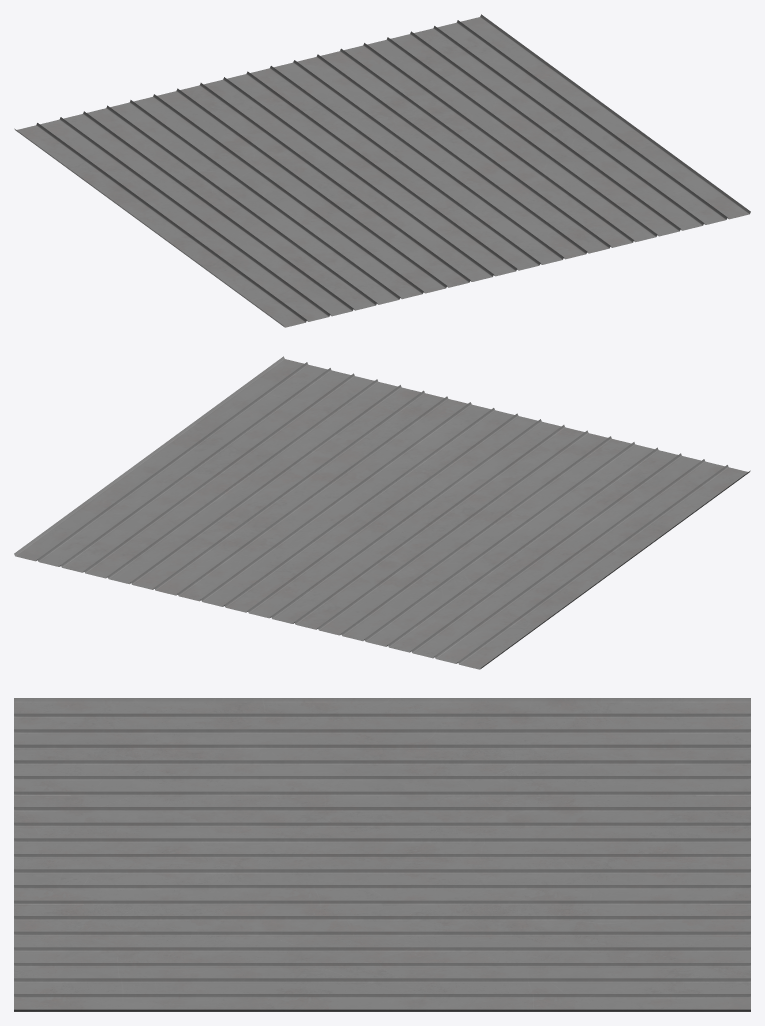
File: Ceiling.fbx
3 views of the same model, one above another, from view 1: azimuth 30°, elevation 25°; view 2: azimuth 150°, elevation 25°; view 3: azimuth 270°, elevation 25° (orthographic). The views are drawn at different scales.
Parts seen in each view (by area): view 1: Ceiling; view 2: Ceiling; view 3: Ceiling.
Boxes of the visible parts, x1,y1,x2,y2 form: Ceiling: [14, 14, 750, 327]; Ceiling: [14, 356, 750, 669]; Ceiling: [14, 698, 750, 1011].
Size of the model in its own units: 400 by 2 by 400.
